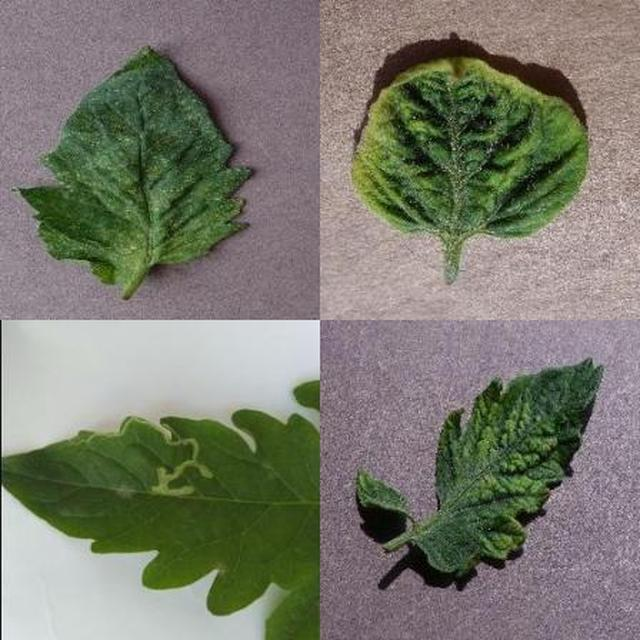Spider Mites Leaf: (193, 211, 640, 640)
